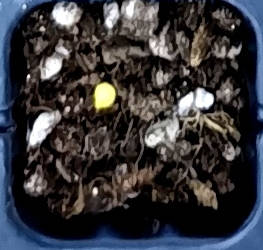pepper seed: (33, 25, 150, 138)
